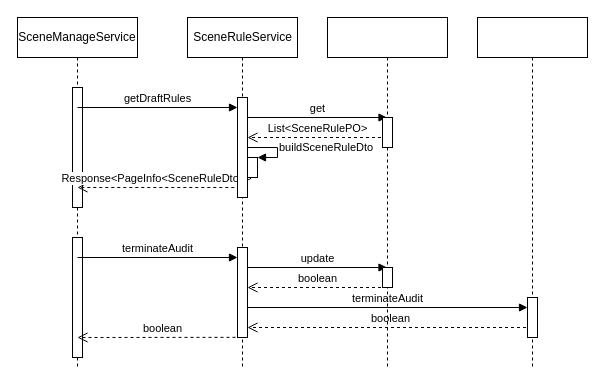
Image size: 605x385. Some labels were removed from this diagram. Here are the shapes that lost their labels. From the top down, the box of each, then its label:
(326, 16, 448, 368): SceneRuleDraftDao
(476, 16, 588, 368): SyncRunnerService
